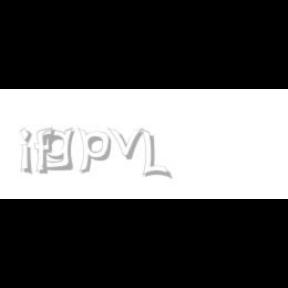L: (141, 128, 169, 180)
f: (35, 128, 59, 174)
g: (42, 128, 78, 171)
i: (20, 128, 36, 176)
p: (78, 128, 114, 174)
v: (107, 128, 147, 160)
